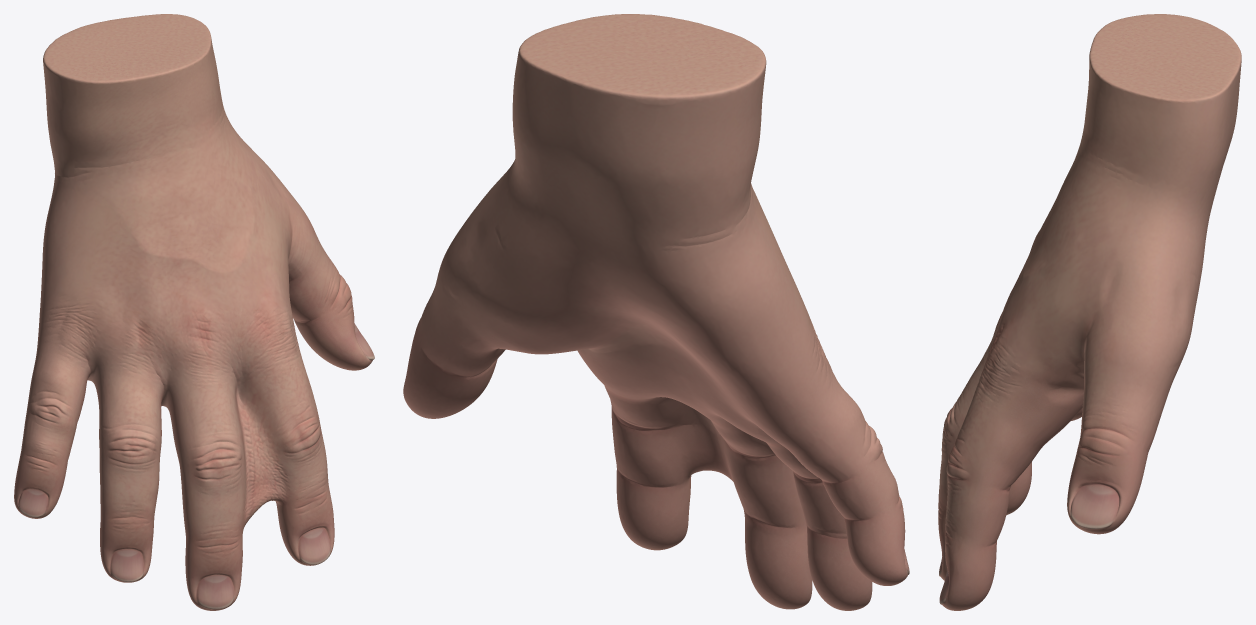
File: MANO.glb
3 renders of one model, left to right at view 1: azimuth 30°, elevation 25°; view 2: azimuth 150°, elevation 25°; view 3: azimuth 270°, elevation 25°, orthographic. The views are drawn at different scales.
Size of the model in its own units: 1.49 by 1.9 by 0.9842.
Materials: 1 (1 with a texture image).
